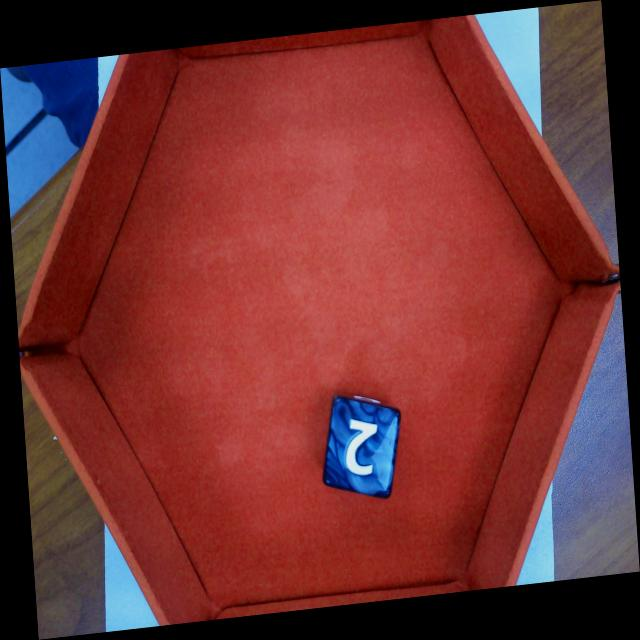dice: (325, 396, 397, 500)
